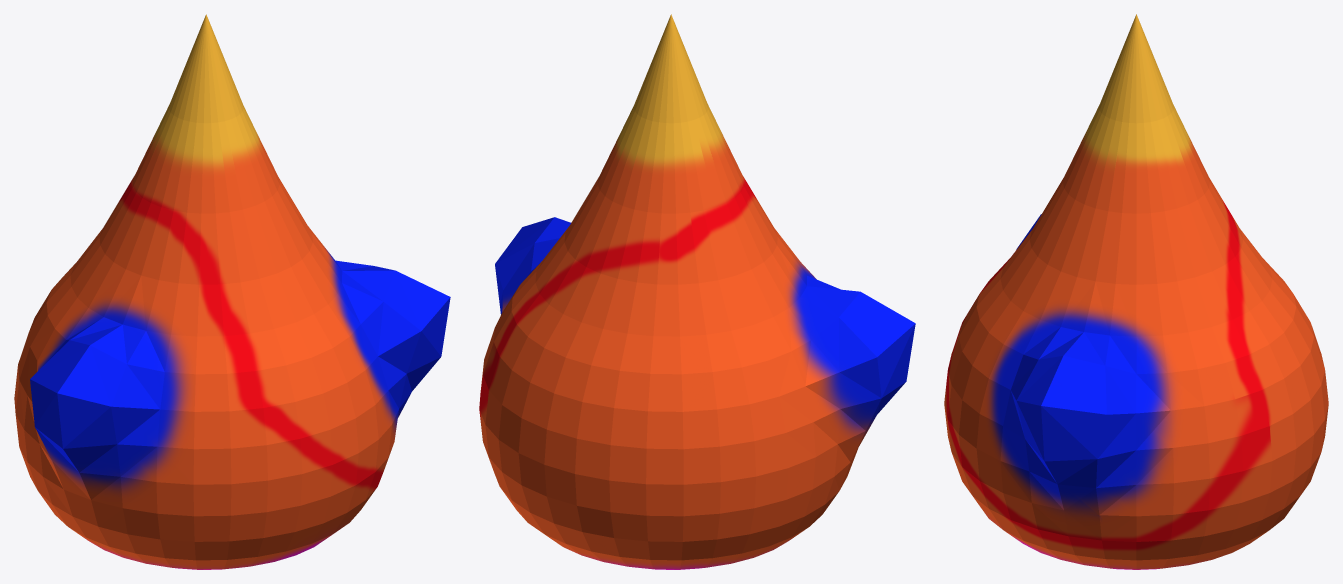
Rendered from random.obj.
3 renders of one model, left to right at view 1: azimuth 30°, elevation 25°; view 2: azimuth 150°, elevation 25°; view 3: azimuth 270°, elevation 25°, orthographic.
Visible parts, largest first — view 1: Sphere; view 2: Sphere; view 3: Sphere.
Part boxes in pixels (x1,y1,x2,y2): Sphere: (14, 14, 450, 569); Sphere: (479, 14, 915, 569); Sphere: (944, 14, 1328, 569).
Size of the model in its own units: 2.36 by 2.95 by 2.
